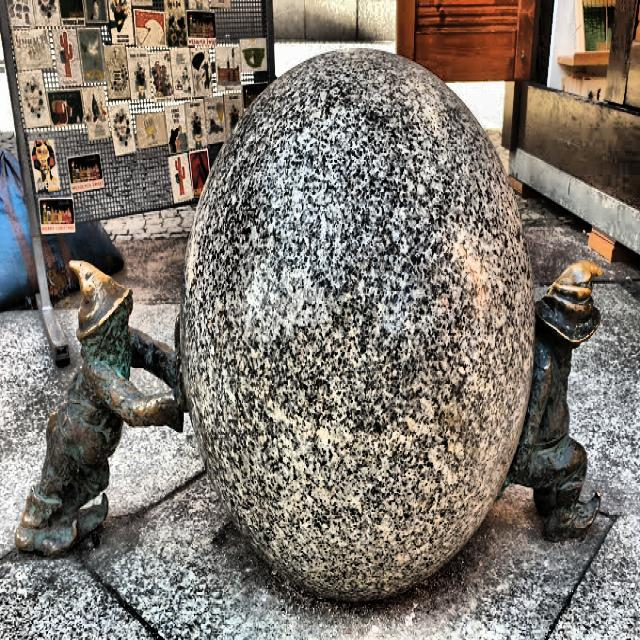Syzyfki: (11, 36, 616, 623)
